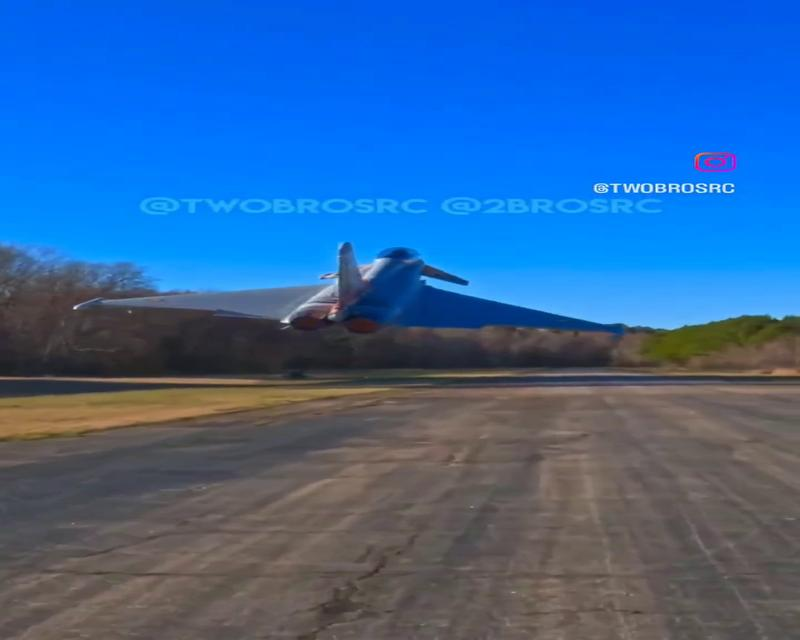UAV: (71, 239, 629, 338)
